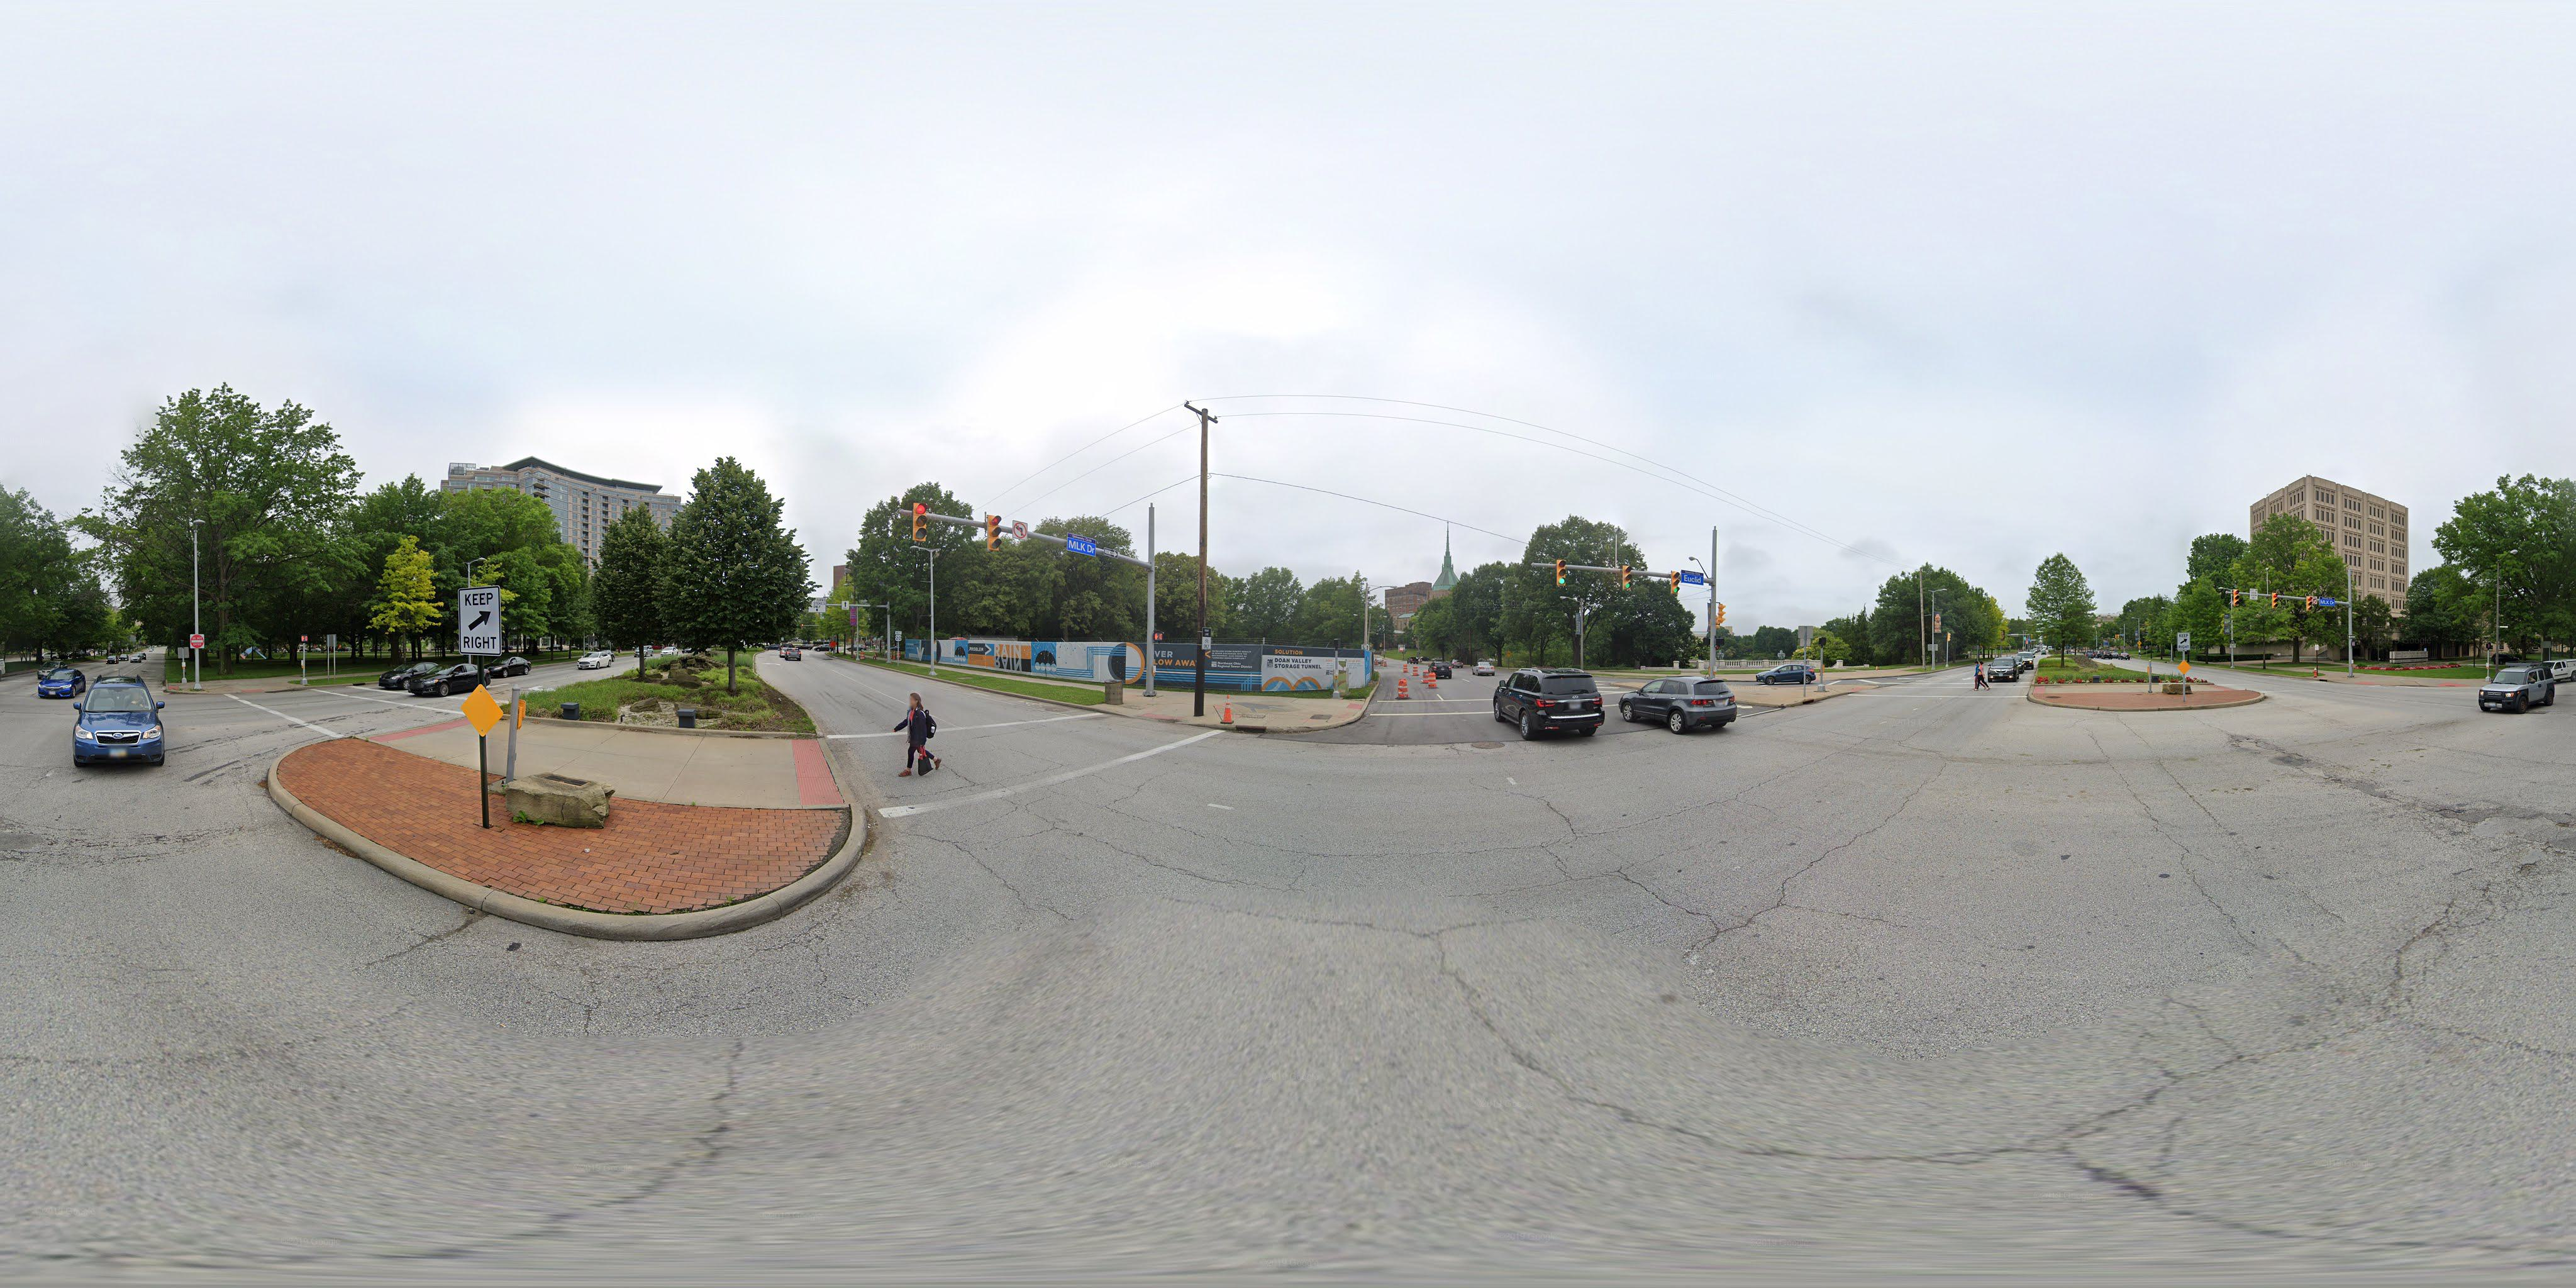Curb Ramp: (784, 729, 851, 812), (366, 710, 471, 746), (1344, 695, 1370, 716), (2027, 682, 2052, 701), (2353, 677, 2389, 690), (233, 687, 269, 697), (1847, 683, 1865, 698), (164, 682, 182, 693)
Irregular Ramp: (1140, 705, 1181, 729), (2436, 677, 2469, 692)
